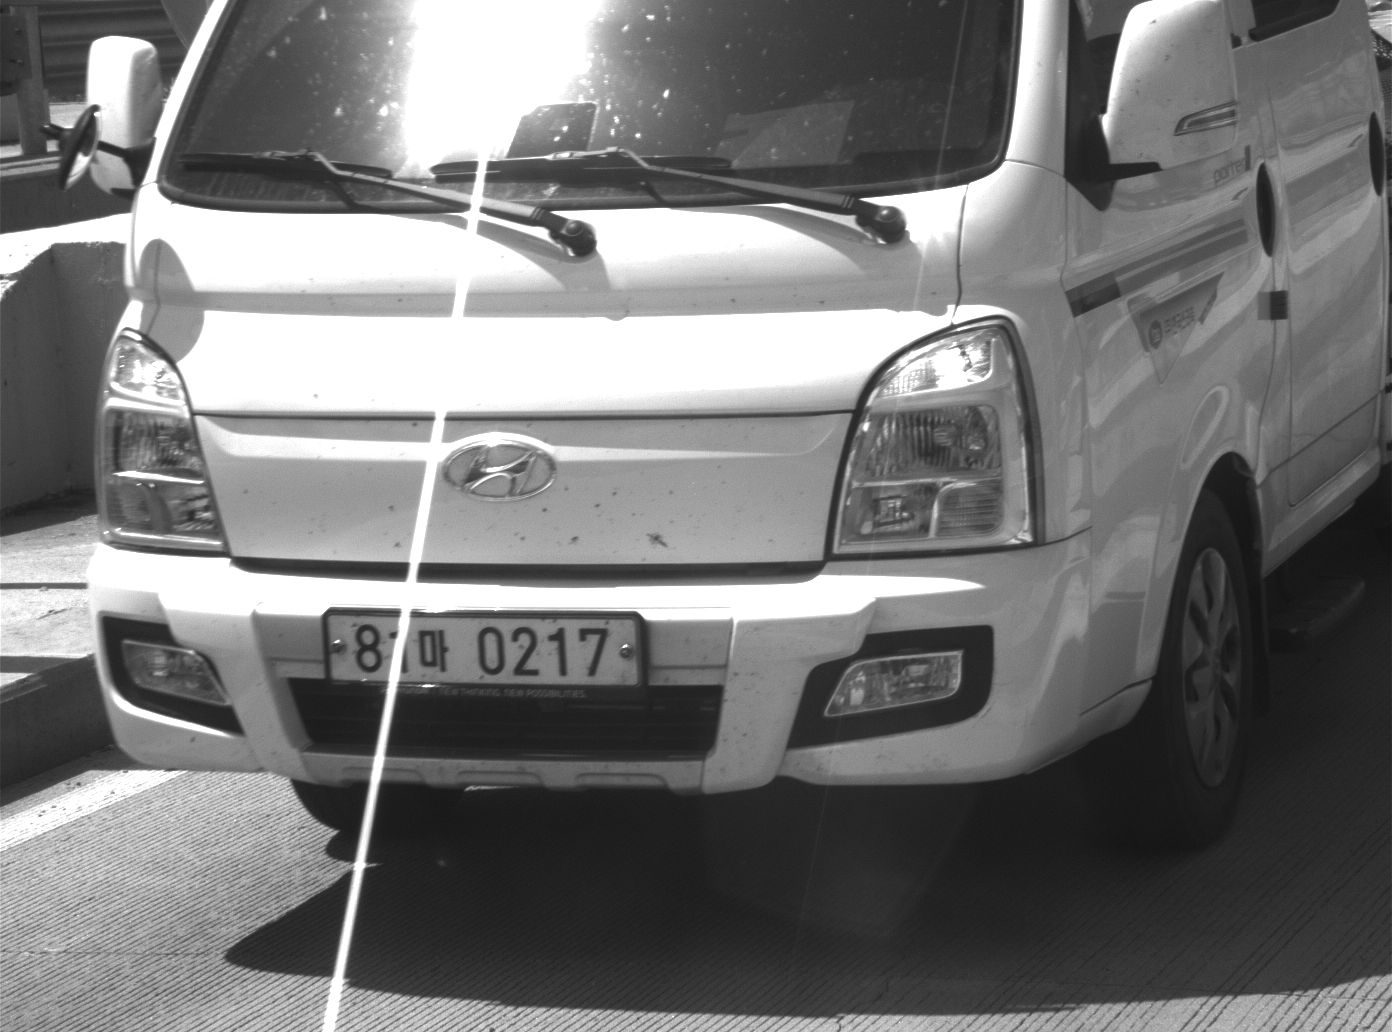car: (87, 1, 1392, 848)
plate: (322, 609, 645, 688)
